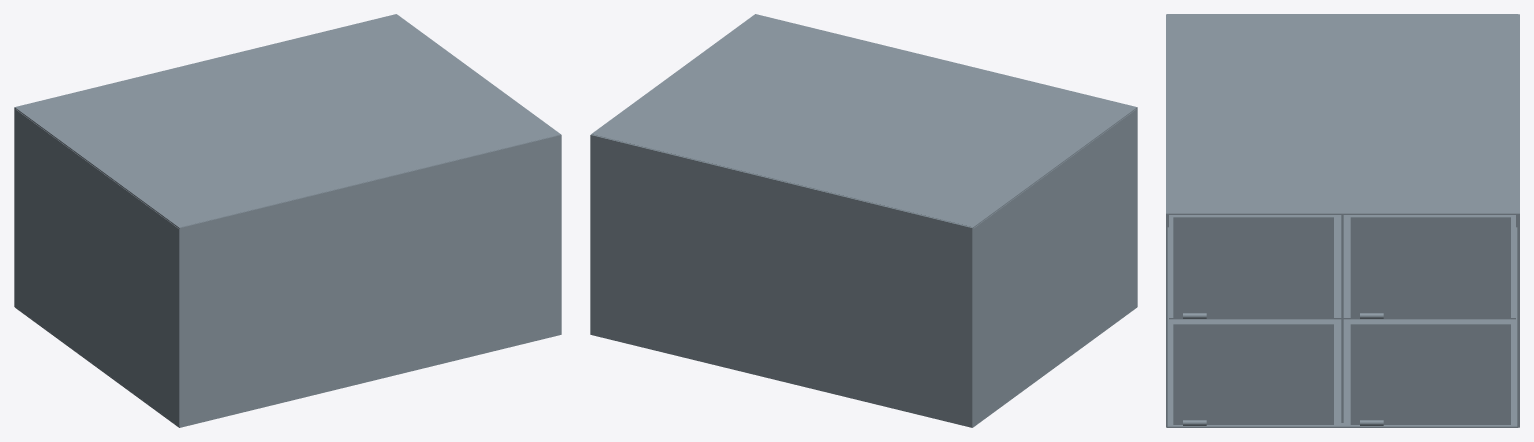
The model's file is A07_COFFRE_2X2.glb.
3 views of the same model, side by side, from view 1: azimuth 30°, elevation 25°; view 2: azimuth 150°, elevation 25°; view 3: azimuth 270°, elevation 25° (orthographic). The views are drawn at different scales.
Parts seen in each view (by area): view 1: K01_0, K02_6, K03_2, K04_1; view 2: K04_1, K02_6, K03_2; view 3: K02_6, K07_9, K07_13, K07_7, K07_11, K02_5, K05_3, K04_1, K01_0, K06_4.
Part boxes in pixels (x1=…): K01_0: x1=179, y1=135, x2=561, y2=427; K02_6: x1=15, y1=14, x2=560, y2=228; K03_2: x1=15, y1=109, x2=179, y2=426; K04_1: x1=14, y1=14, x2=396, y2=307; K04_1: x1=590, y1=134, x2=973, y2=427; K02_6: x1=591, y1=14, x2=1136, y2=227; K03_2: x1=973, y1=109, x2=1137, y2=425; K02_6: x1=1167, y1=14, x2=1518, y2=214; K07_9: x1=1173, y1=323, x2=1333, y2=424; K07_13: x1=1173, y1=216, x2=1333, y2=317; K07_7: x1=1350, y1=323, x2=1510, y2=424; K07_11: x1=1350, y1=216, x2=1510, y2=317; K02_5: x1=1167, y1=227, x2=1518, y2=427; K05_3: x1=1169, y1=215, x2=1515, y2=319; K04_1: x1=1517, y1=14, x2=1519, y2=427; K01_0: x1=1166, y1=14, x2=1167, y2=427; K06_4: x1=1341, y1=215, x2=1343, y2=422.
Size of the model in its own units: 1008 by 501 by 749.
